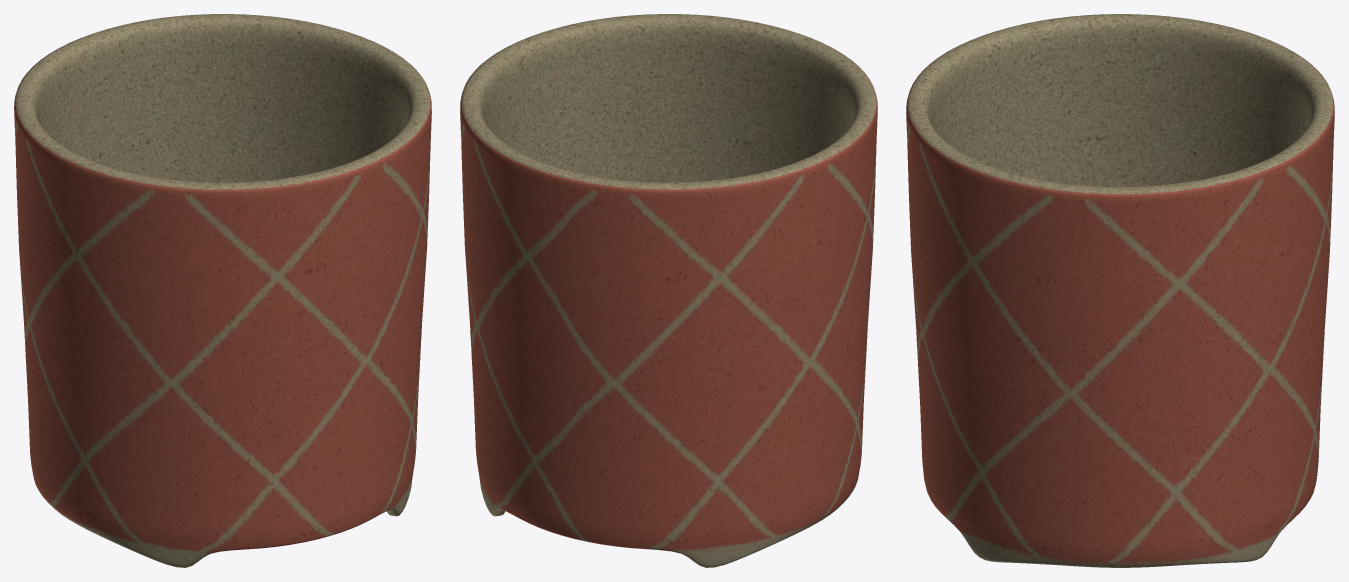
Rendered from abo-B0842LL84Z.glb.
3 views of the same model, side by side, from view 1: azimuth 30°, elevation 25°; view 2: azimuth 150°, elevation 25°; view 3: azimuth 270°, elevation 25° (orthographic). The views are drawn at different scales.
Bounding box in the file's own units: 0.227 × 0.235 × 0.227.
1 material, 1 textured.
